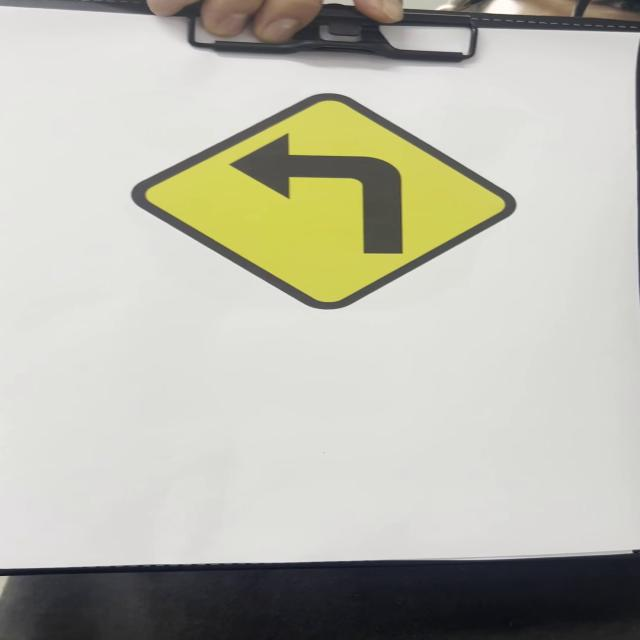left: (138, 93, 527, 308)
